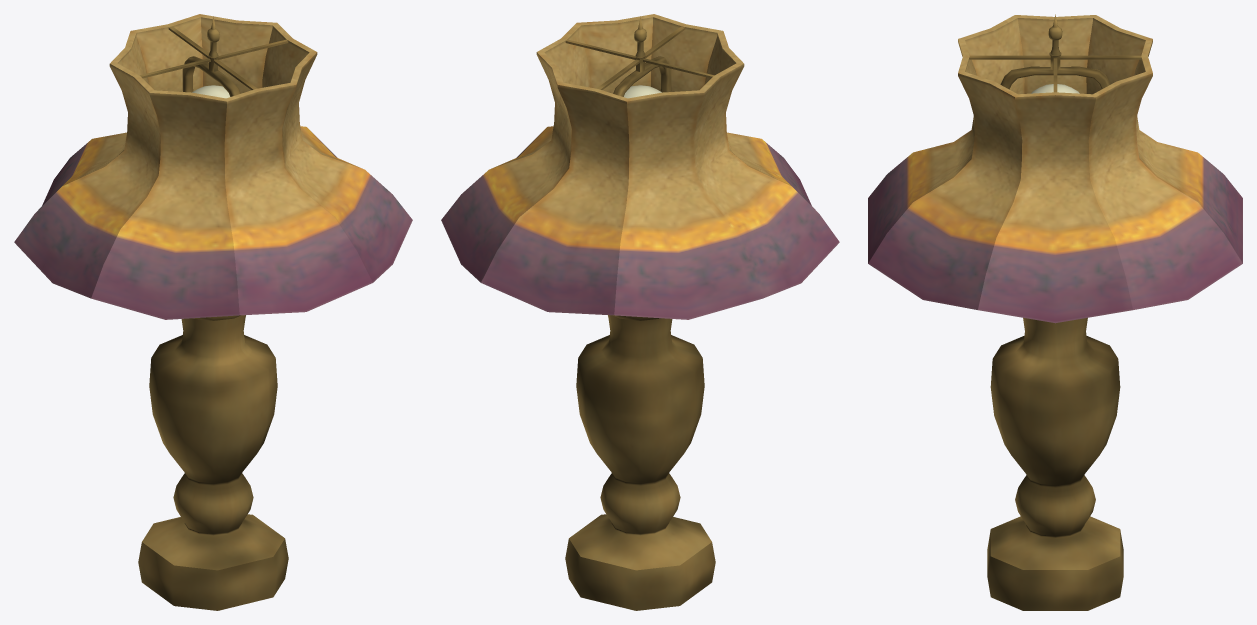
File: EN_Lamp_01 (1).fbx
The picture shows the model from 3 angles, left to right: view 1: azimuth 30°, elevation 25°; view 2: azimuth 150°, elevation 25°; view 3: azimuth 270°, elevation 25°; orthographic projection.
Visible parts, largest first — view 1: Lamp; view 2: Lamp; view 3: Lamp.
Part boxes in pixels (<box>): Lamp: <box>14,14,412,610</box>; Lamp: <box>441,14,839,610</box>; Lamp: <box>868,14,1242,610</box>.
Bounding box in the file's own units: 0.6627 × 1.11 × 0.6627.
